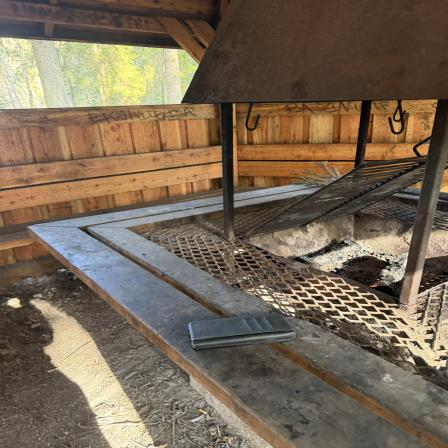phone: (188, 314, 298, 349)
